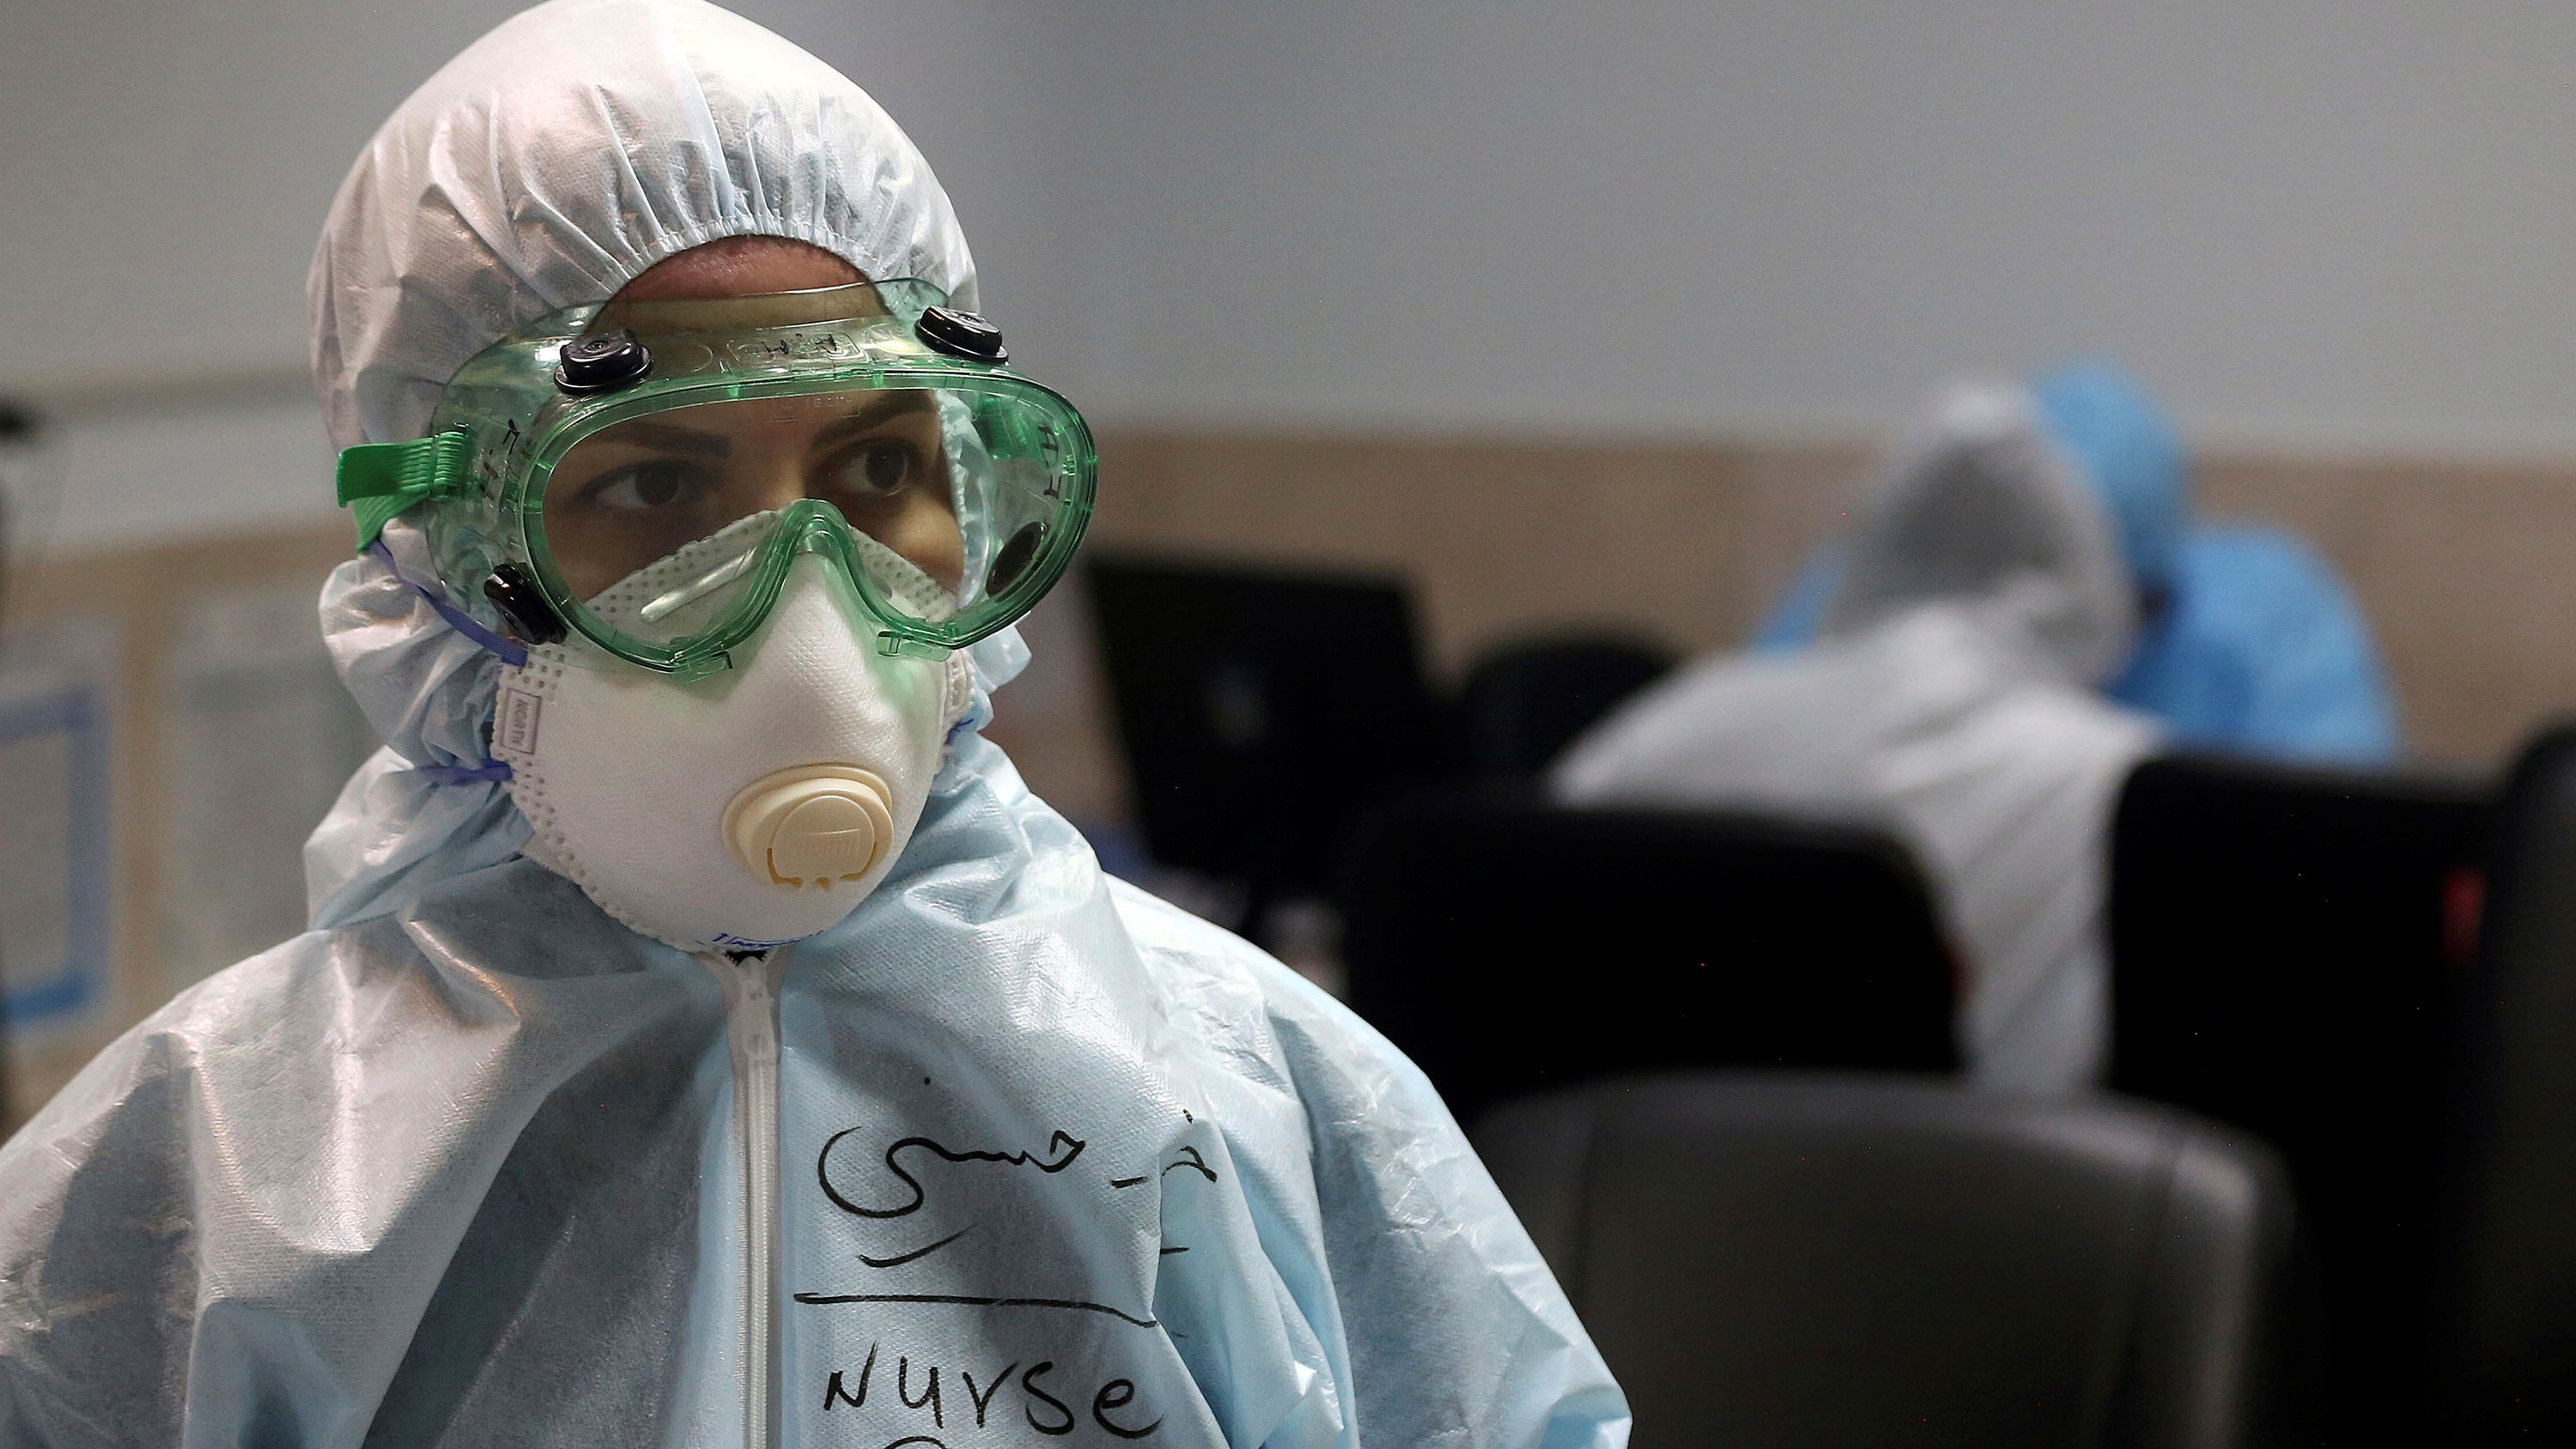n95: (446, 505, 1035, 970)
